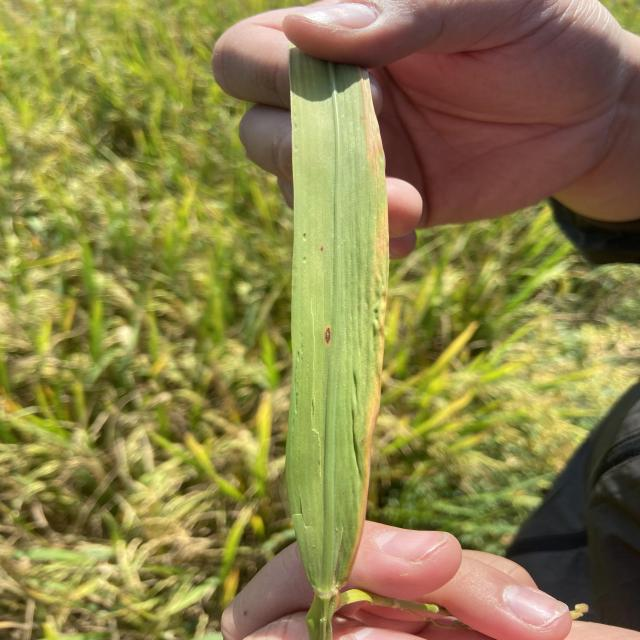Dom nau: (325, 327, 331, 344), (321, 248, 323, 251)
